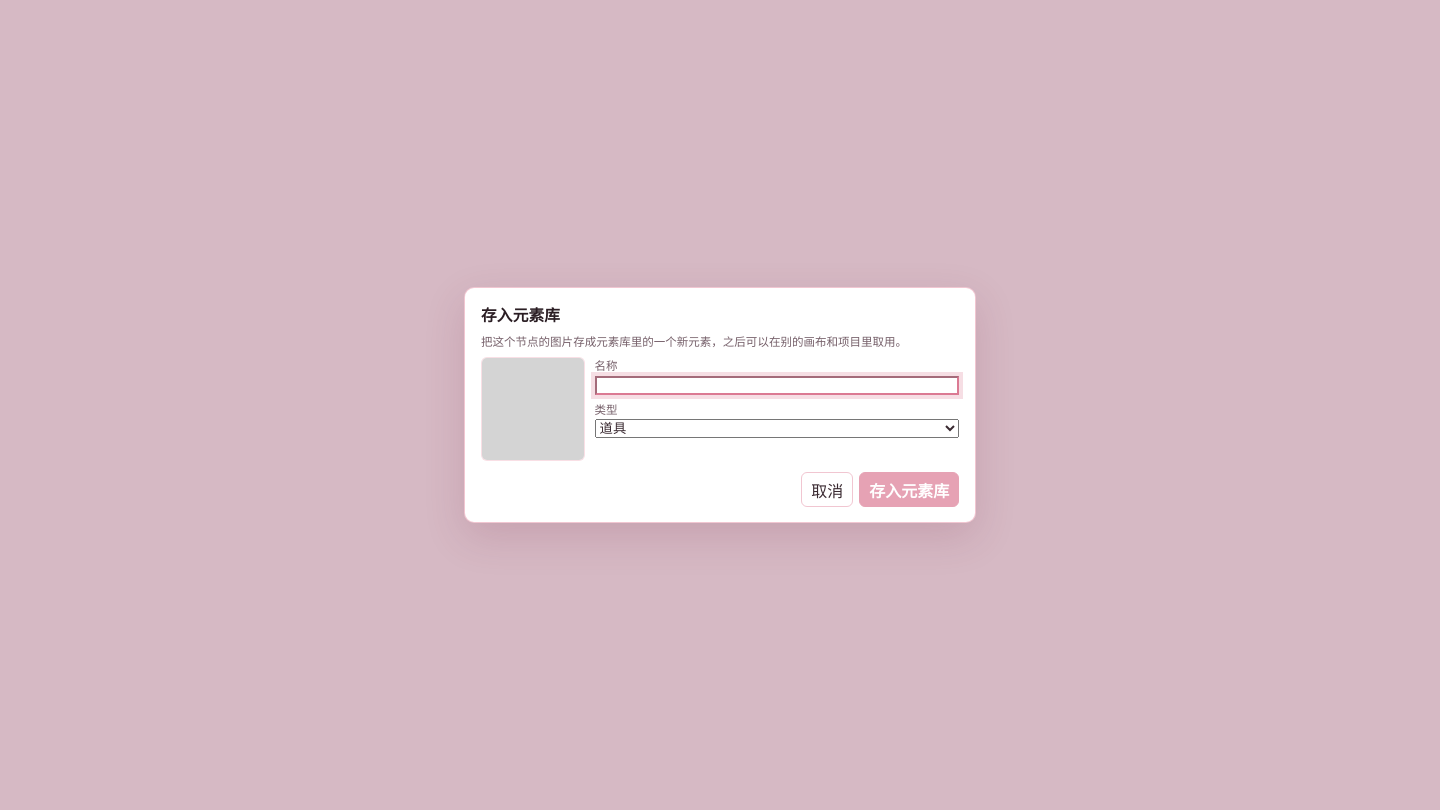
Scenario: keeping a node's picture in the element library › needs a name, and shows the server's refusal without closing
expect the button "存入元素库" is disabled: met, box [859,472,959,507]
Type "试试" into the field labelled "名称".
click(777, 385); type("试试")  # box [595,376,959,395]
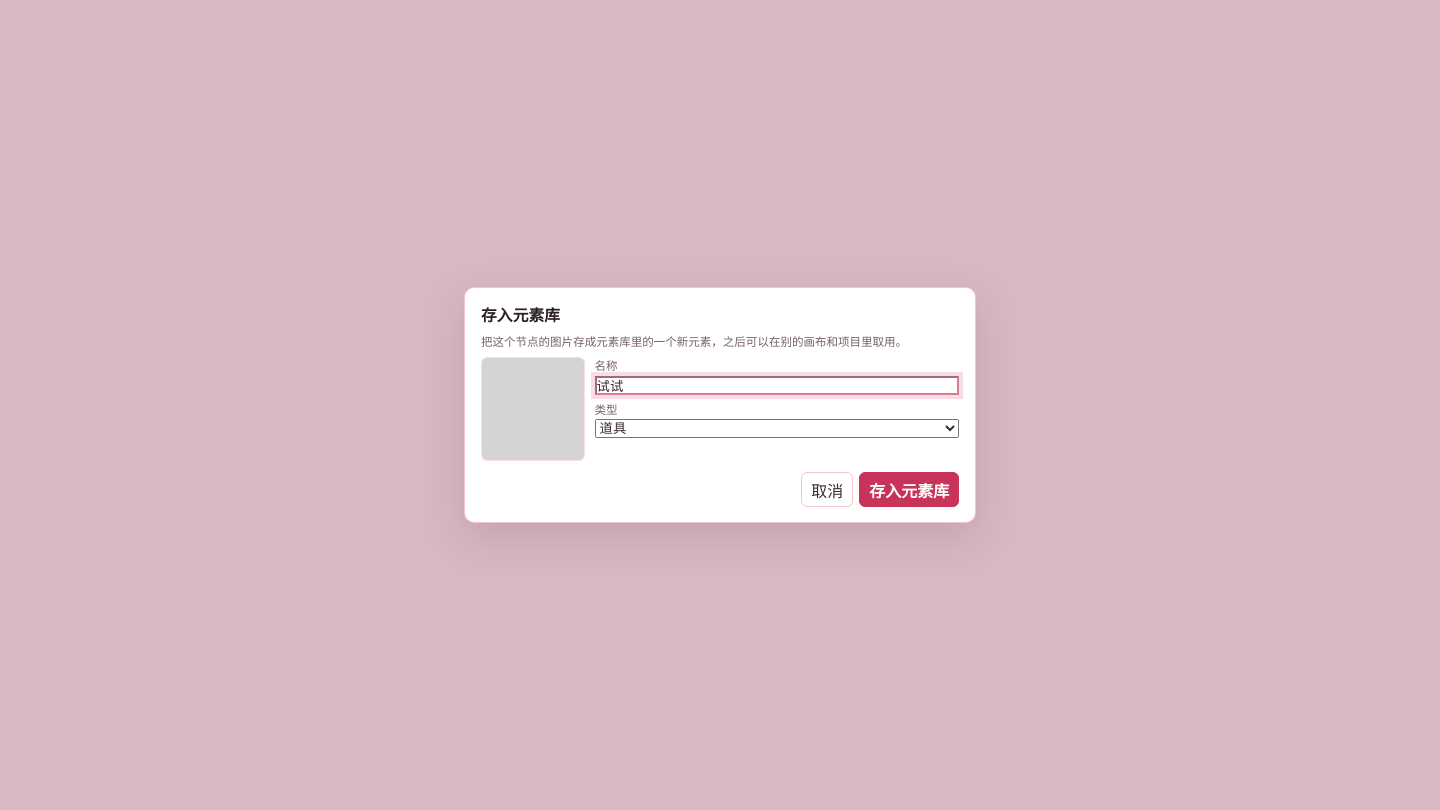
expect the button "存入元素库" is enabled: met
Click the button "存入元素库".
click(909, 490)  # box [859,472,959,507]
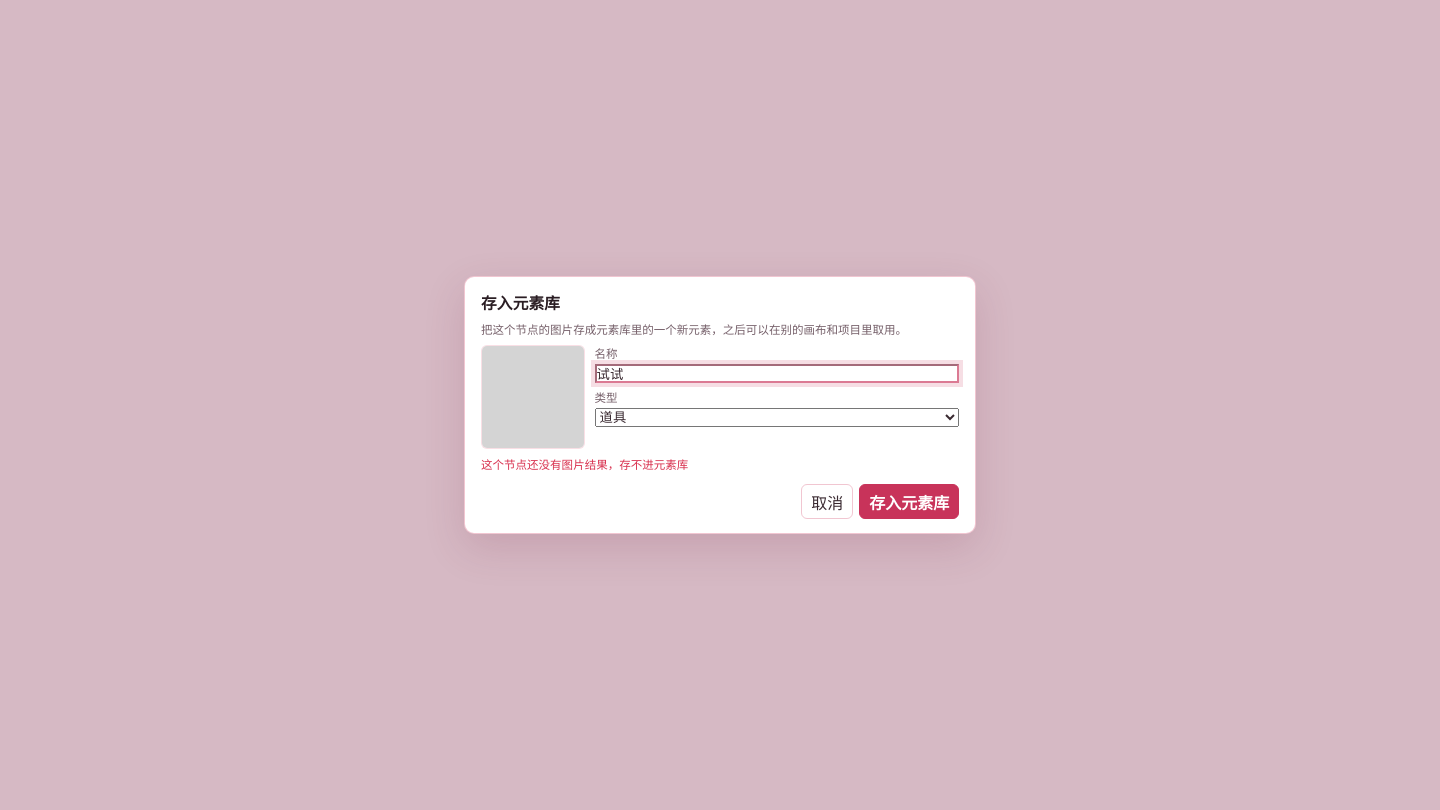
expect the button "存入元素库" is enabled: met, box [859,484,959,519]
expect the message shows "这个节点还没有图片结果": met, box [481,457,688,472]
